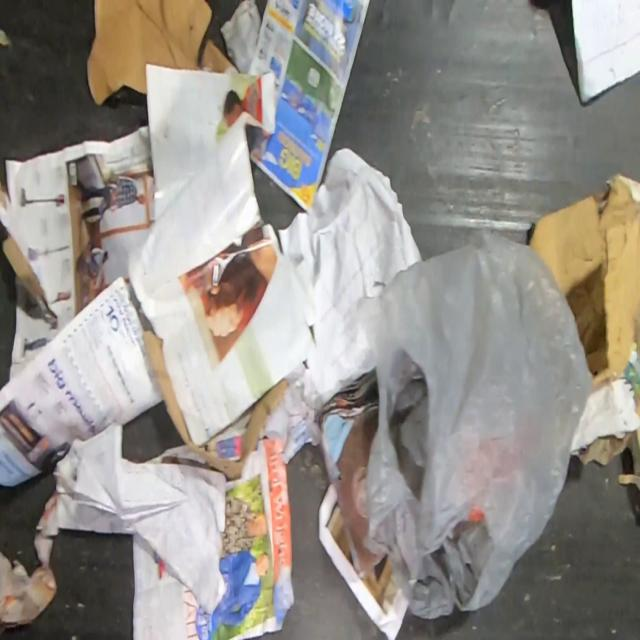cardboard: (528, 172, 640, 509), (140, 329, 288, 481), (86, 0, 242, 108), (0, 176, 60, 320)
soft_plastic: (351, 231, 593, 621)
